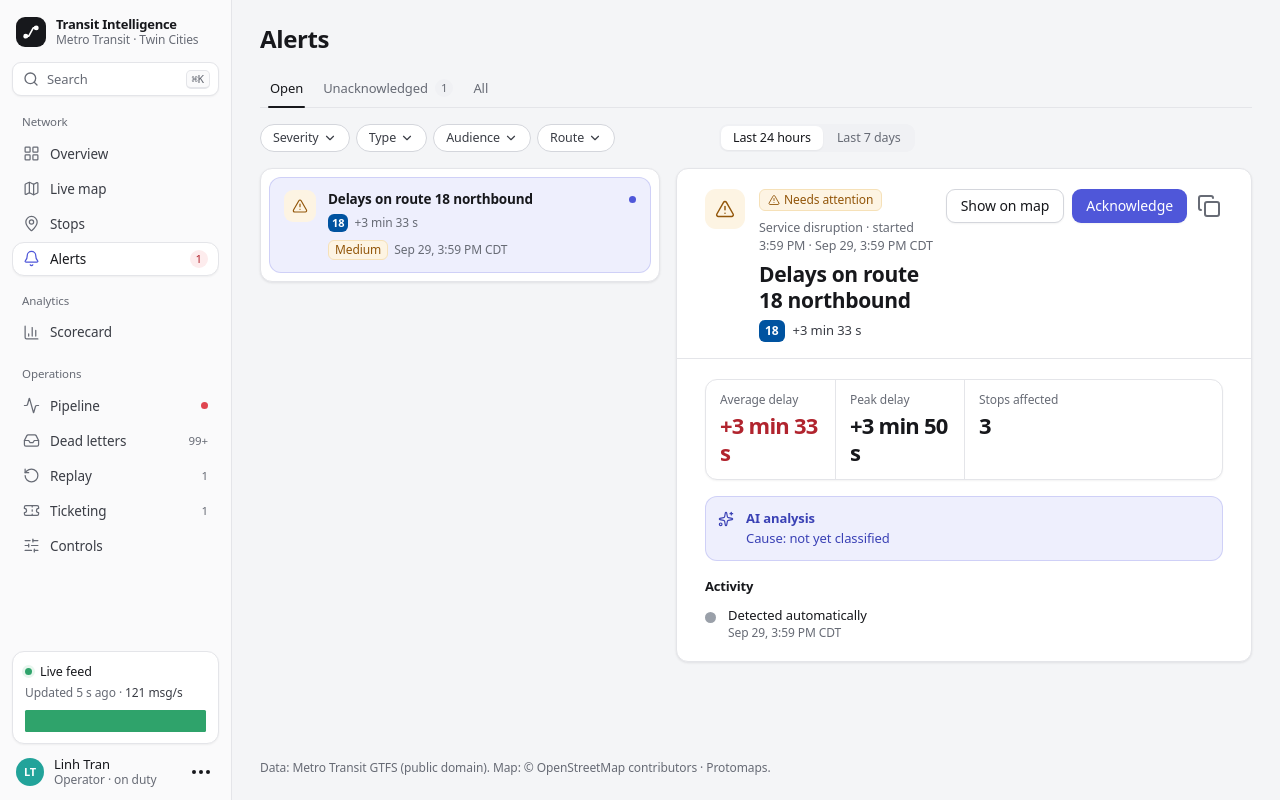
Scenario: alert feed › AC-3 acknowledges at once, without waiting for the server or a toast
Expected: the picture named "Unread" is shown, [629, 196, 636, 203]
Click the button "Acknowledge". click: (1130, 206)
box: [1072, 189, 1187, 223]
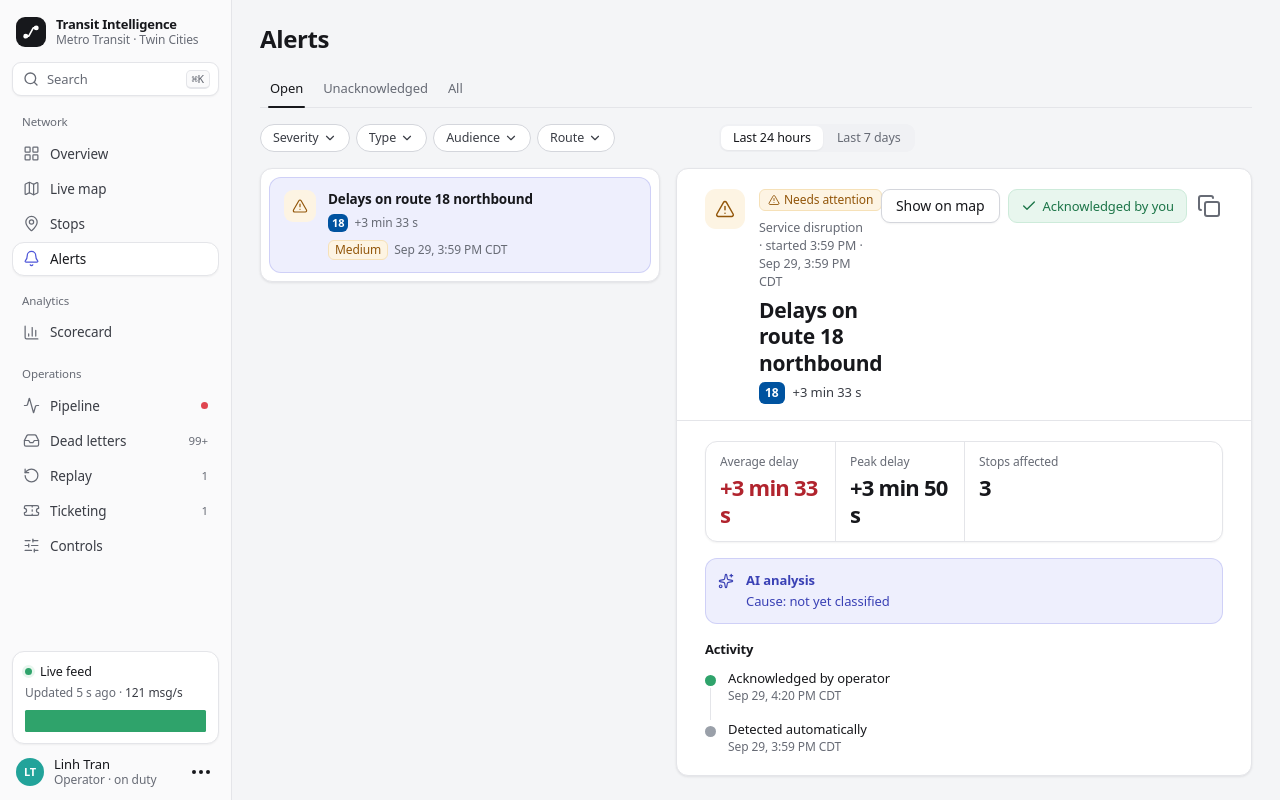
Result: the picture "Unread" is gone
Result: the text "Acknowledged by you" is shown at [1008, 189, 1187, 223]
